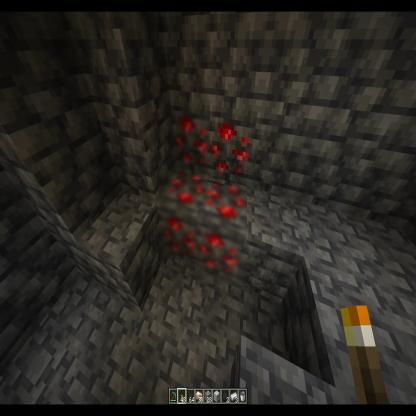redstone ore: (197, 174, 247, 284), (159, 166, 211, 259), (208, 120, 255, 186), (168, 111, 210, 179)
